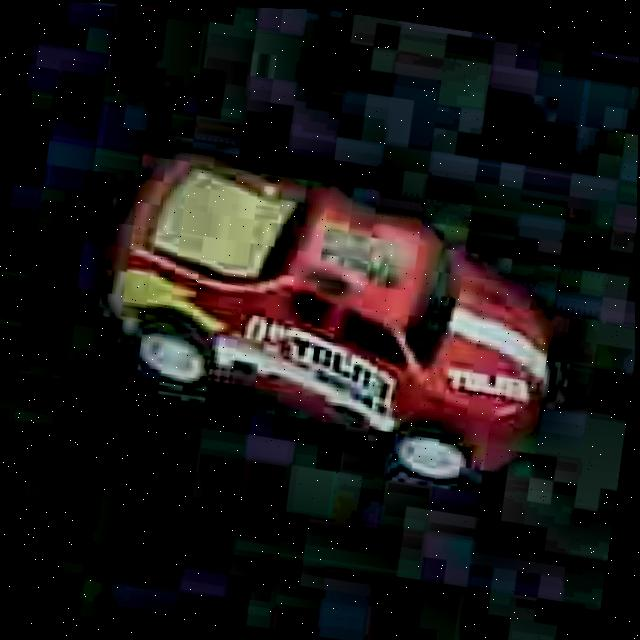car: (77, 130, 588, 505)
